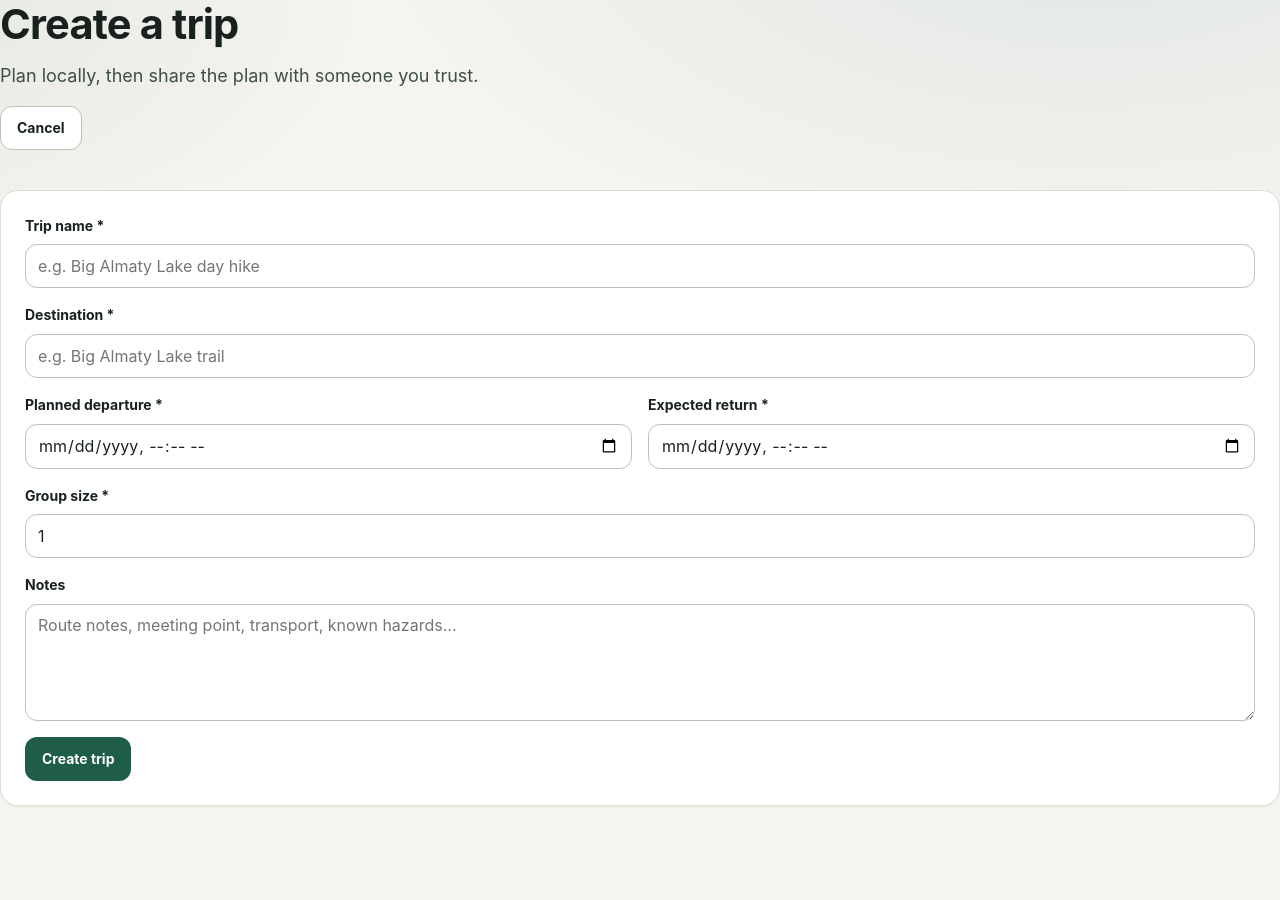
Scenario: TripFormPage › flags a return time that is before departure
In the field labelled "Trip name *": (640, 266) [25,244,1255,288], type "Late return"
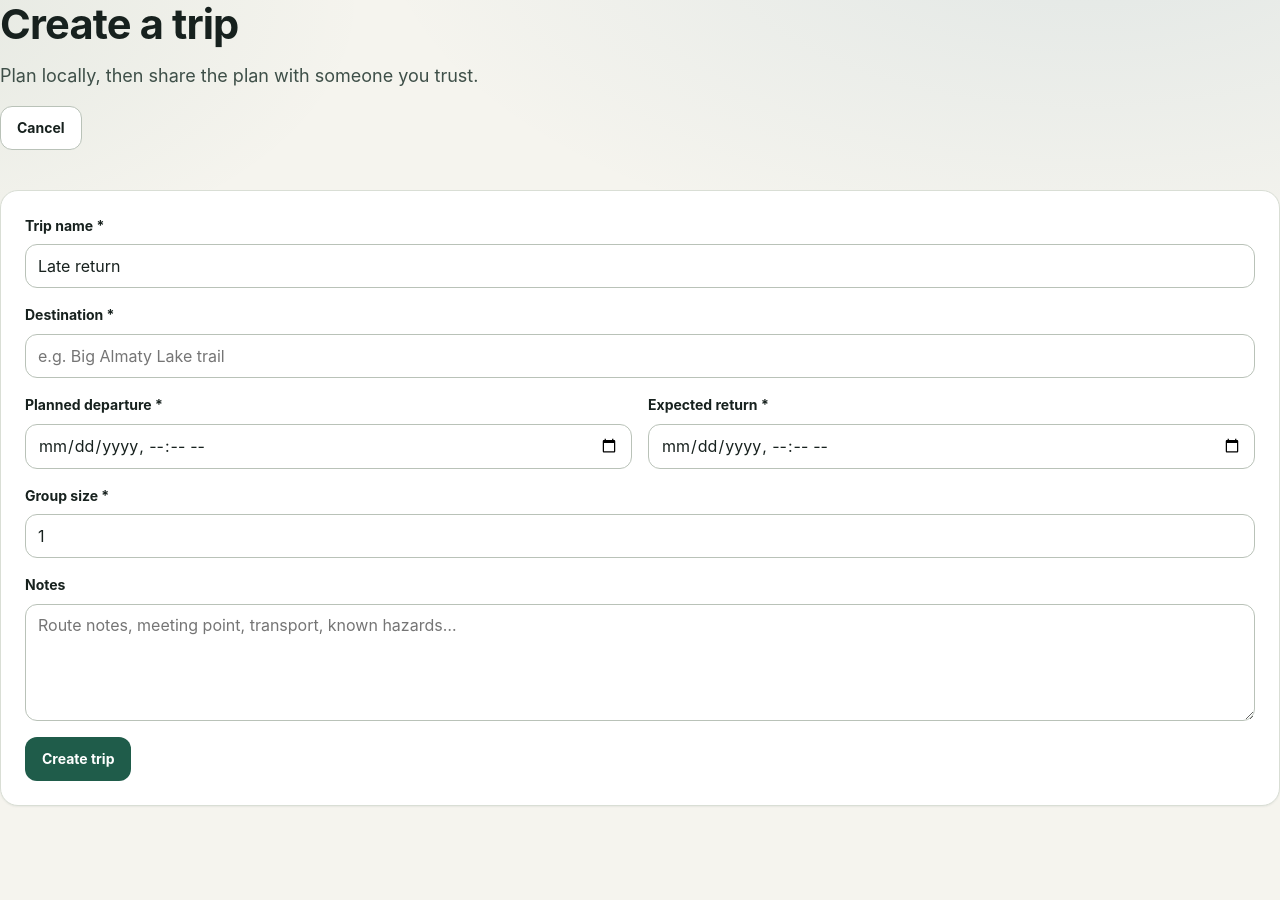
In the field labelled "Destination *": (640, 356) [25,334,1255,378], type "Charyn"
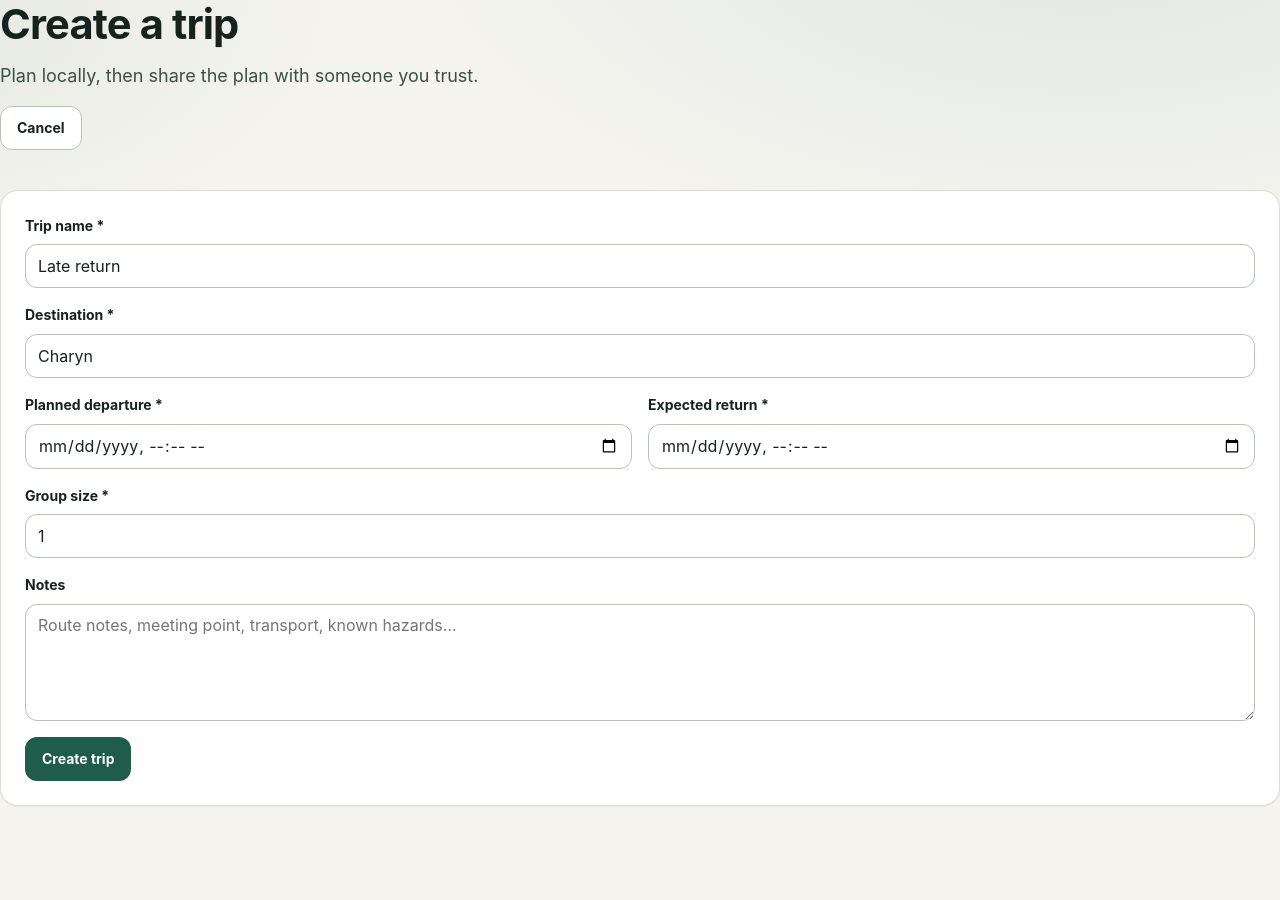
In the field labelled "Planned departure *": (328, 446) [25,424,632,469], type "2030-01-02T10:00"
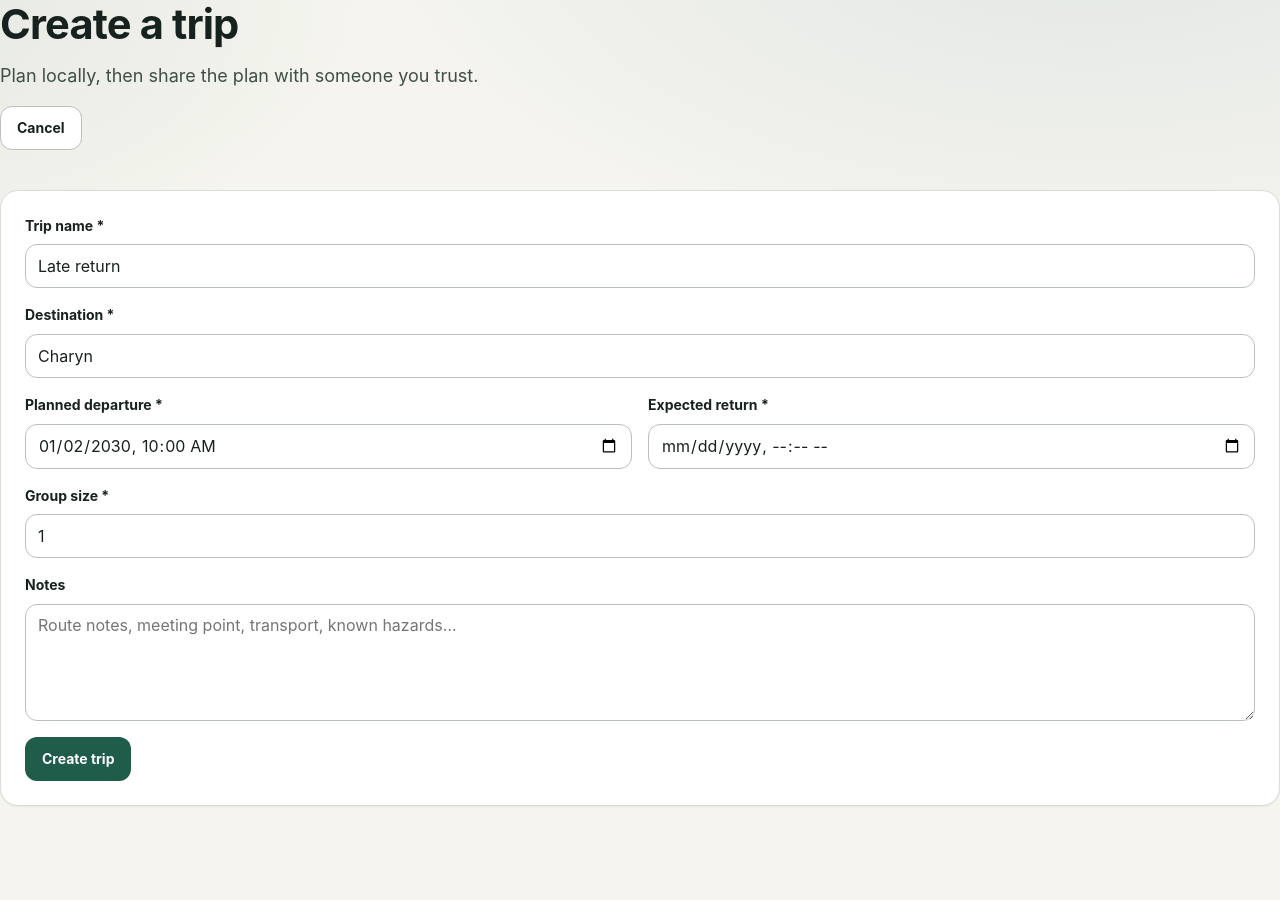
In the field labelled "Expected return *": (952, 446) [648,424,1255,469], type "2030-01-02T08:00"
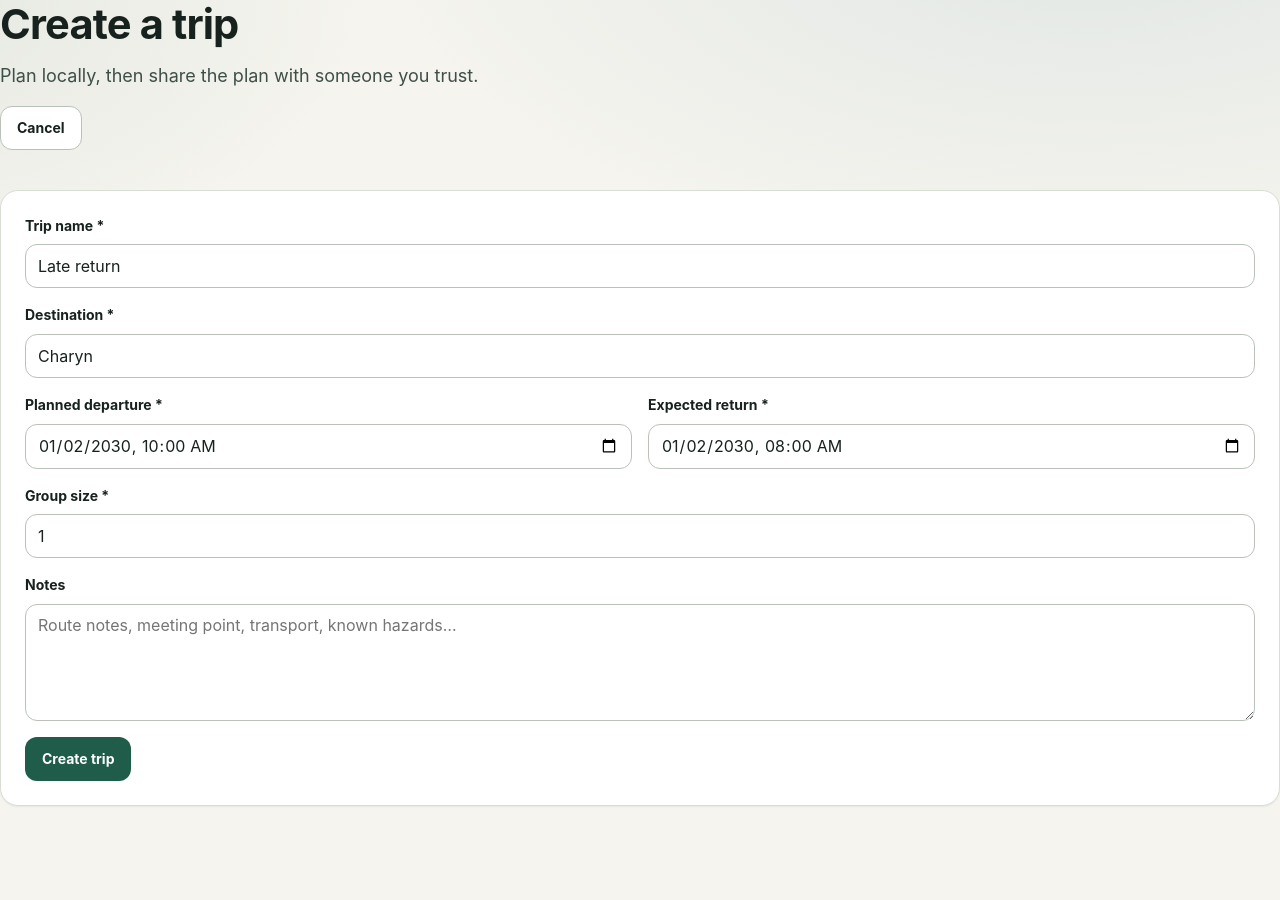
Click the button "Create trip": (78, 759) [25,737,132,781]
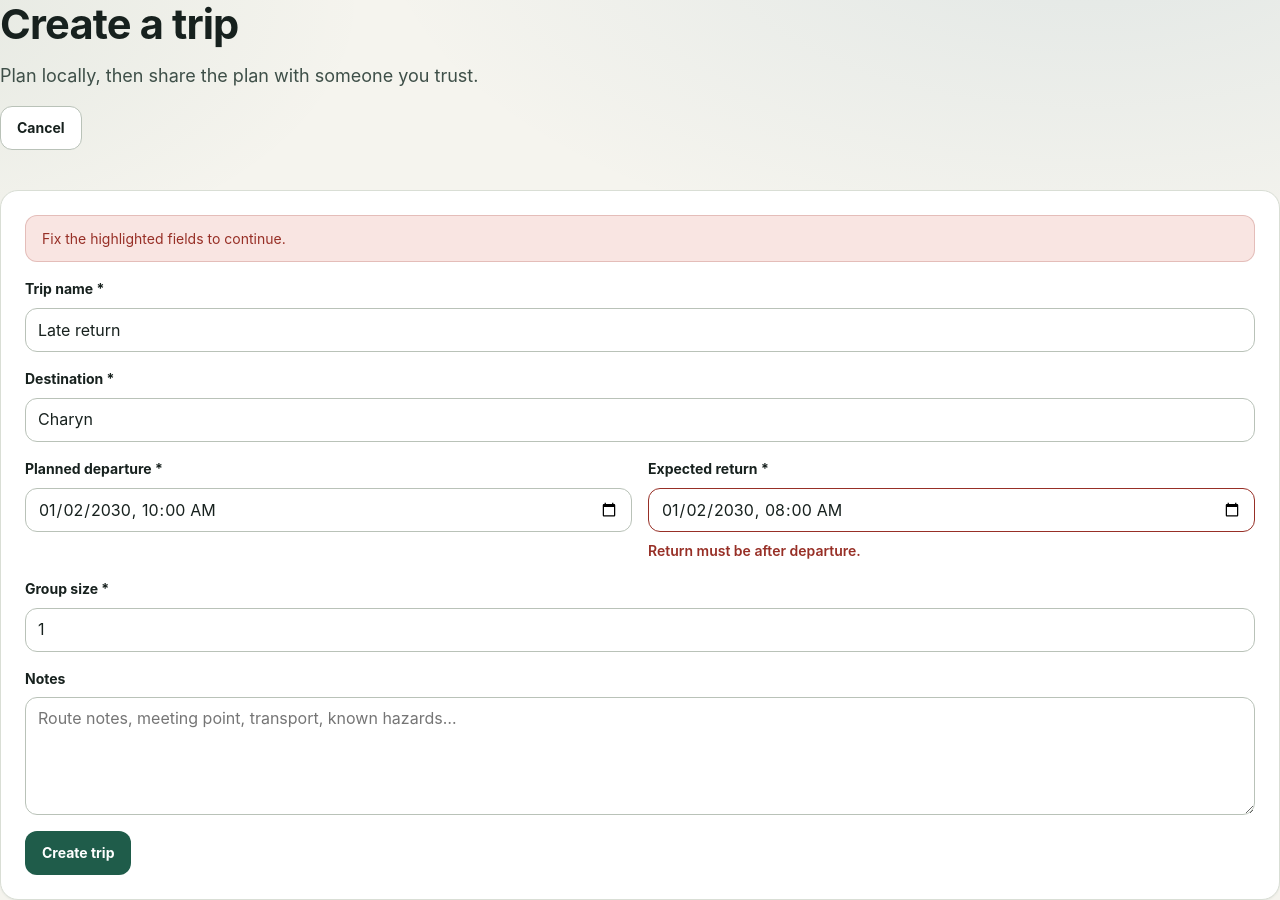
Expected: the text "Return must be after departure." is shown, [648,542,861,559]
